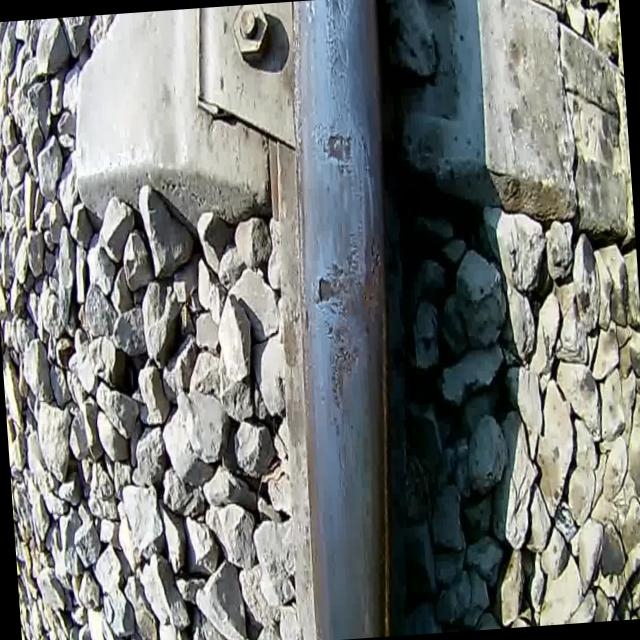Spallings: (367, 232, 384, 288), (313, 273, 337, 308)
Squats: (304, 213, 395, 414), (310, 114, 360, 184)
